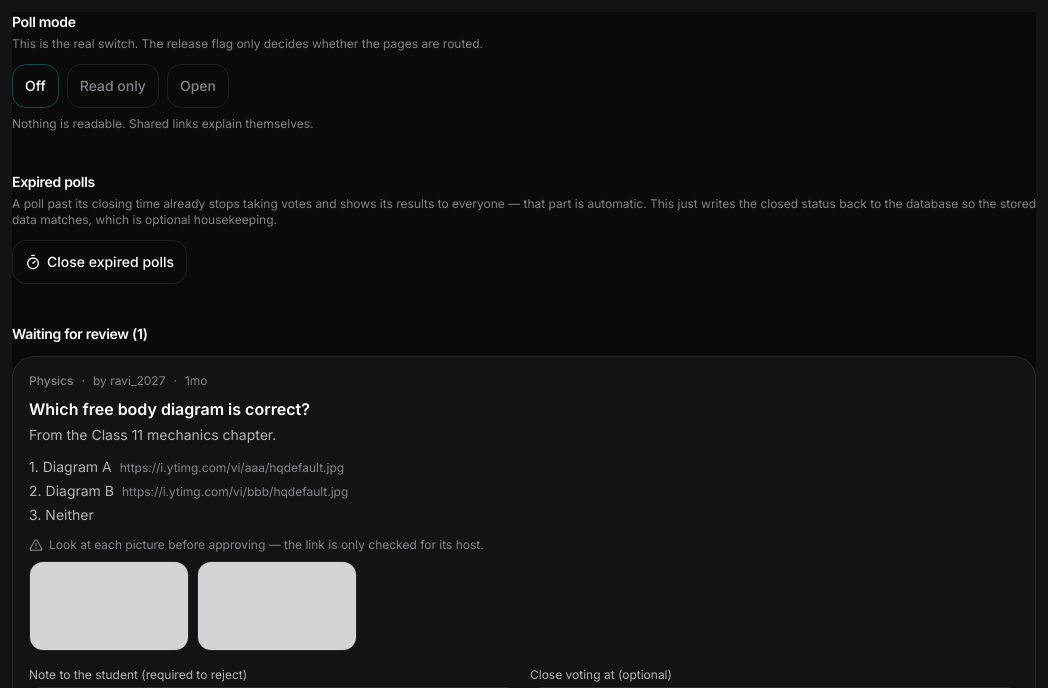
expired polls › says plainly when there is nothing to close, rather than implying it acted
This screenshot has width=1048, height=688.
What coordinates should you click on to do the following:
click the button "Close expired polls"
I would click on:
 (100, 262)
Its box is [12,240,187,284].
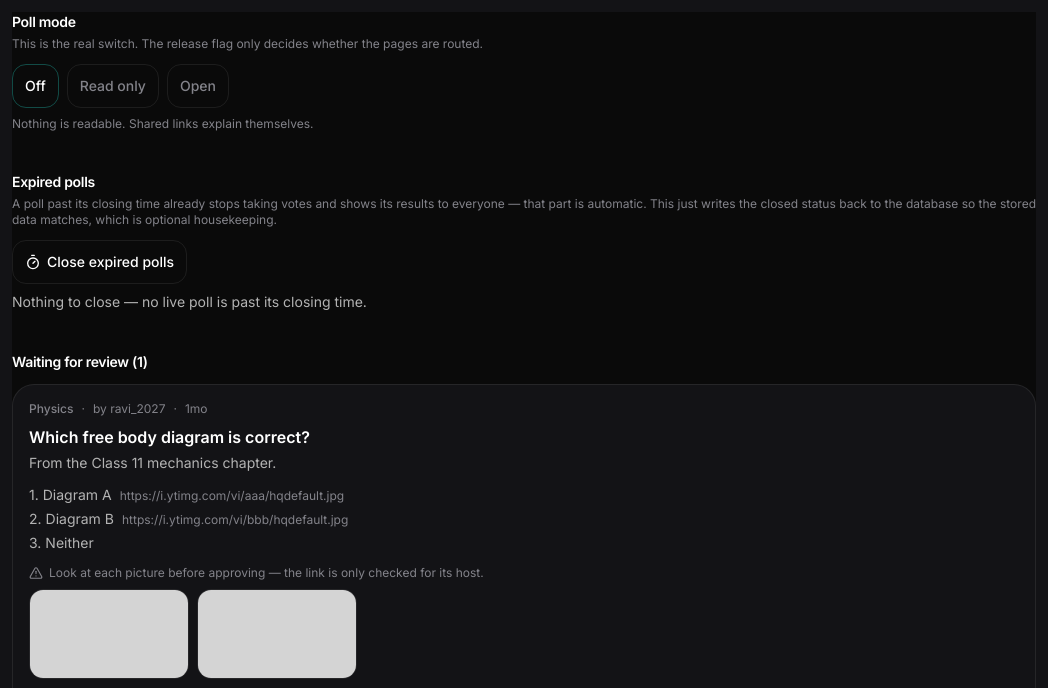
Check: the text "Nothing to close — no live poll is past its closing time." is shown, box [12,293,367,310]
